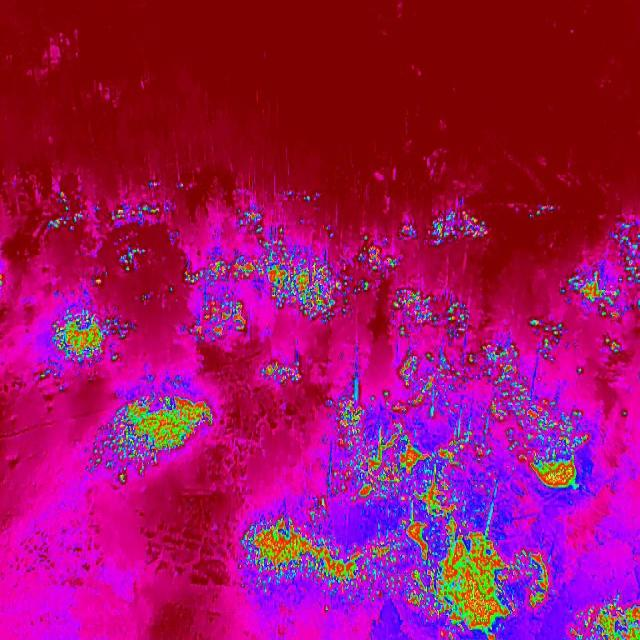fire: (186, 208, 397, 348), (474, 320, 598, 500), (386, 510, 554, 640), (232, 495, 382, 613), (330, 398, 474, 508), (85, 392, 219, 486), (560, 217, 640, 356), (37, 305, 134, 384), (382, 345, 477, 397), (392, 283, 474, 343), (398, 204, 488, 248), (570, 597, 640, 640), (90, 242, 154, 286), (108, 198, 180, 231), (43, 186, 91, 234), (260, 354, 306, 390), (276, 186, 324, 206), (522, 201, 565, 221), (146, 177, 188, 192)
